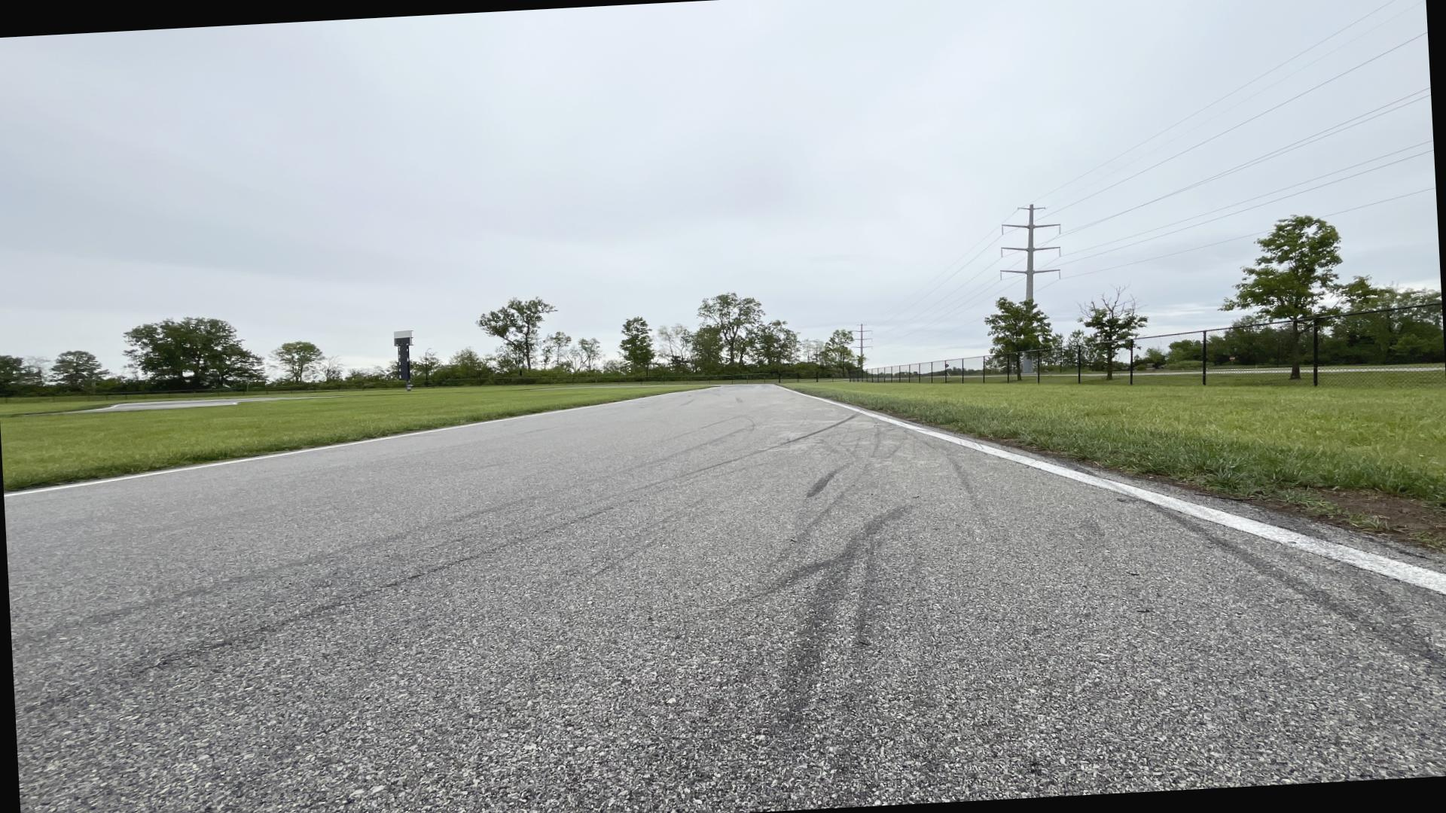white-line: (984, 447, 1230, 524), (1207, 510, 1381, 571), (852, 406, 999, 455), (1362, 556, 1445, 593), (87, 471, 174, 486), (4, 483, 89, 498), (243, 446, 325, 461), (172, 459, 246, 473), (389, 425, 462, 439), (322, 436, 391, 449), (462, 415, 529, 428), (777, 385, 823, 400), (585, 397, 643, 408), (529, 406, 585, 417), (820, 397, 860, 411), (642, 392, 677, 399), (676, 387, 715, 393), (684, 385, 723, 388)
